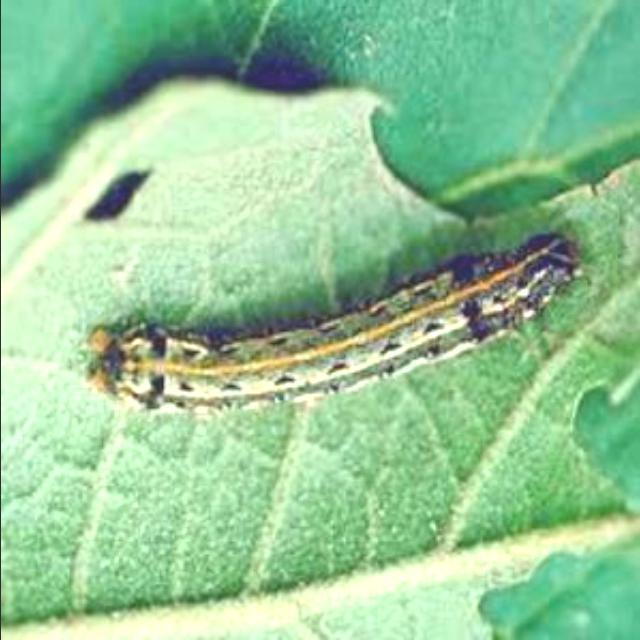Beet armyworm: (76, 90, 620, 524)
